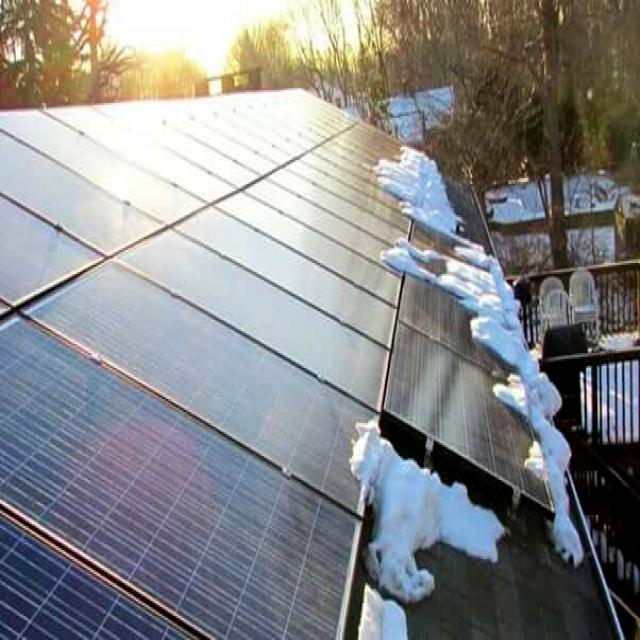panel: (348, 399, 512, 599), (526, 427, 586, 588), (372, 127, 455, 225), (386, 228, 472, 322), (482, 337, 556, 440), (472, 204, 515, 341), (328, 580, 416, 640)
